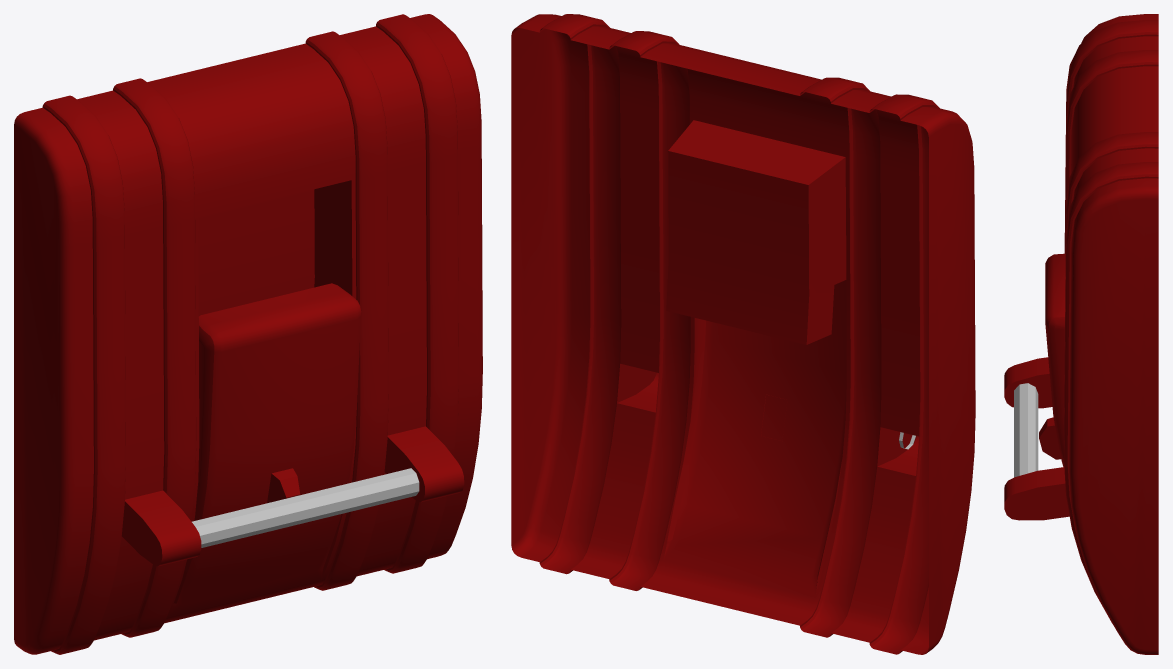
3 views of the same model, side by side, from view 1: azimuth 30°, elevation 25°; view 2: azimuth 150°, elevation 25°; view 3: azimuth 270°, elevation 25° (orthographic). The views are drawn at different scales.
Visible parts, largest first — view 1: Box001; view 2: Box001; view 3: Box001.
Part boxes in pixels (<box>): Box001: <box>14,14,482,654</box>; Box001: <box>511,14,975,654</box>; Box001: <box>1004,14,1158,654</box>.
Bounding box in the file's own units: 60.76 × 75.16 × 22.06.
